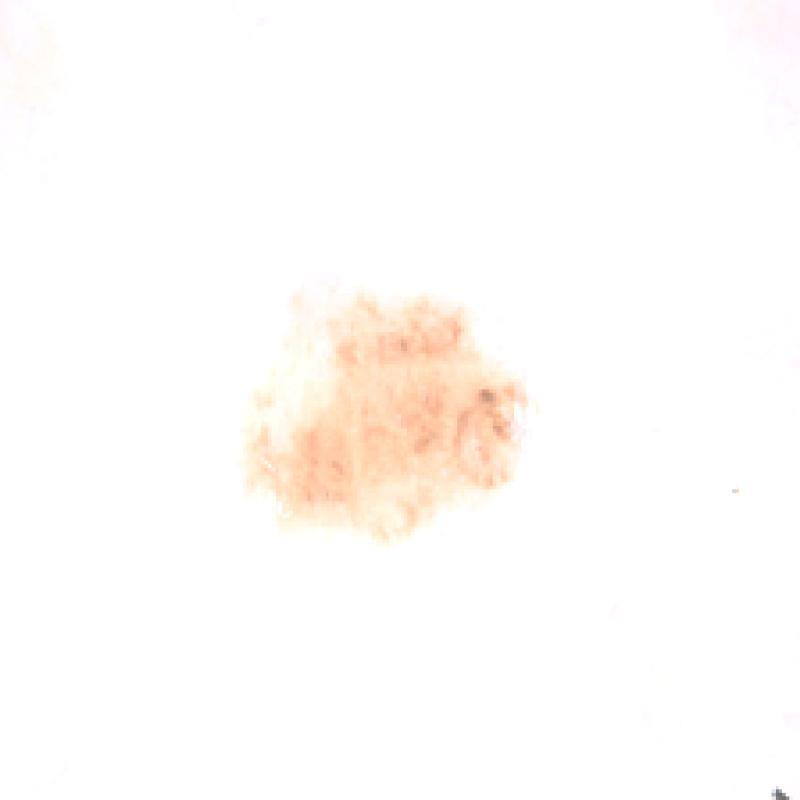benign: (178, 276, 588, 557)
